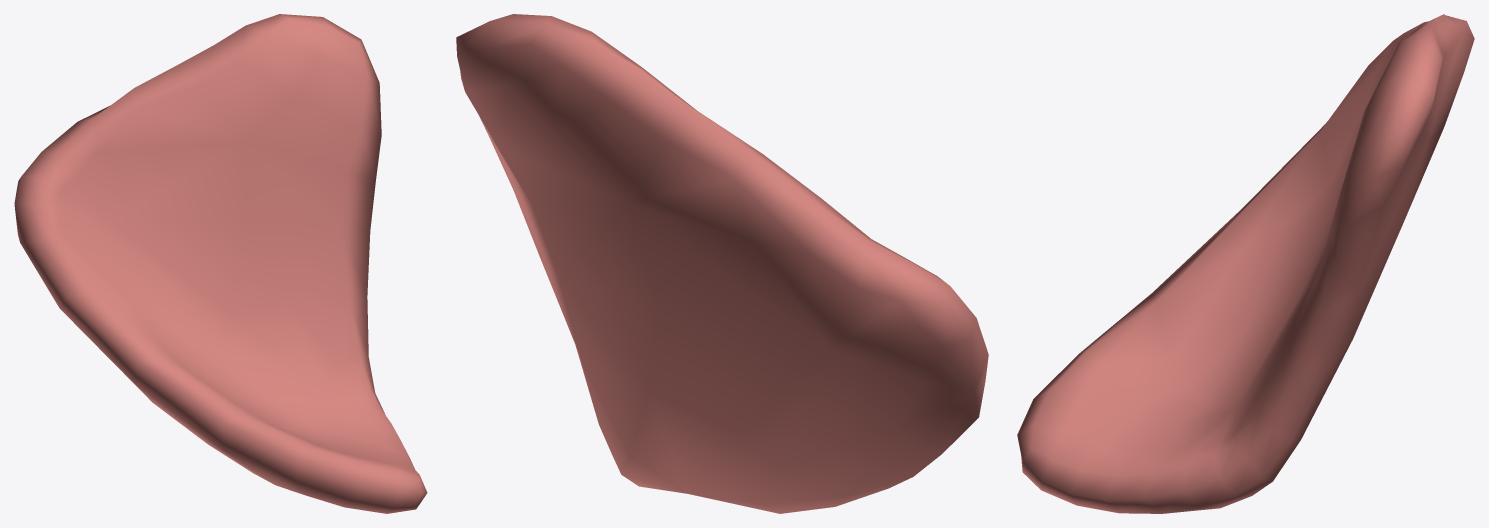
The picture shows the model from 3 angles, left to right: view 1: azimuth 30°, elevation 25°; view 2: azimuth 150°, elevation 25°; view 3: azimuth 270°, elevation 25°; orthographic projection. The views are drawn at different scales.
Visible parts, largest first — view 1: ZA_0fcf8a5cf1cbe1f3; view 2: ZA_0fcf8a5cf1cbe1f3; view 3: ZA_0fcf8a5cf1cbe1f3.
Part boxes in pixels (box(x1,y1,x2,y2)): ZA_0fcf8a5cf1cbe1f3: box(14, 14, 427, 513); ZA_0fcf8a5cf1cbe1f3: box(456, 14, 988, 513); ZA_0fcf8a5cf1cbe1f3: box(1017, 14, 1474, 513).
Size of the model in its own units: 0.00363 by 0.0038 by 0.00334.
